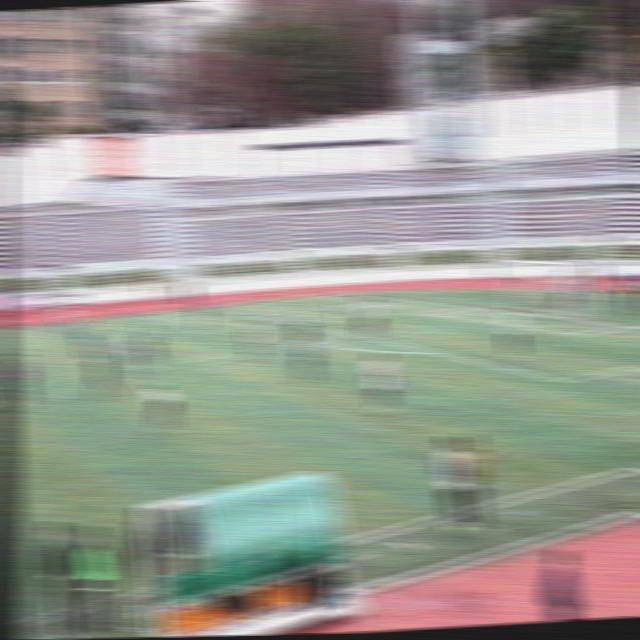bigarea_bottom_inner: (551, 367, 576, 396)
bigarea_top_inner: (253, 310, 274, 324)
bigarea_top_outter: (394, 292, 416, 306)
bottom_arc_area_intersection: (417, 339, 441, 360)
smallarea_bottom_inner: (565, 326, 586, 343)
smallarea_bottom_outter: (613, 318, 634, 333)
smallarea_top_inner: (418, 307, 439, 319)
smallarea_top_outter: (463, 301, 482, 311)
top_arc_area_intersection: (314, 320, 339, 339)
